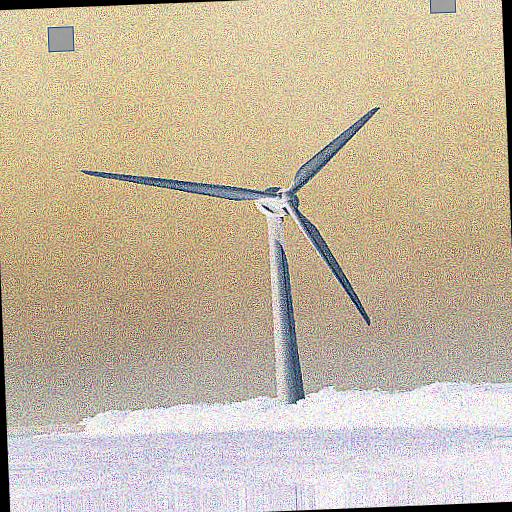wind turbine: (79, 106, 378, 404)
